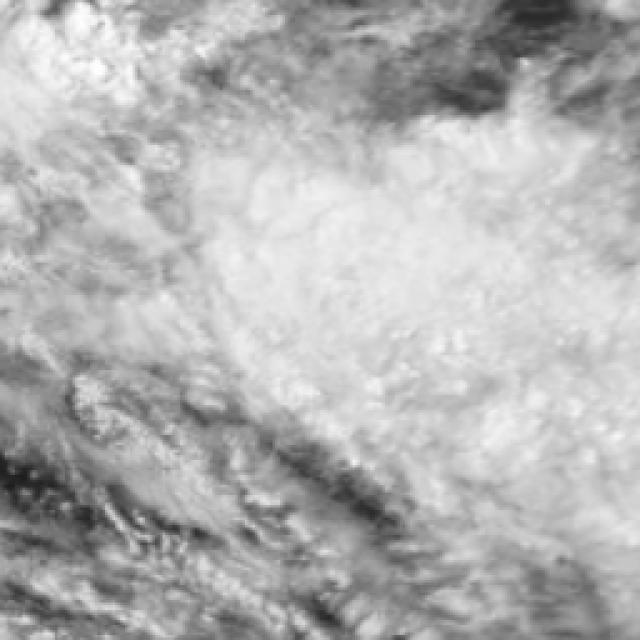CB: (297, 184, 557, 389)
